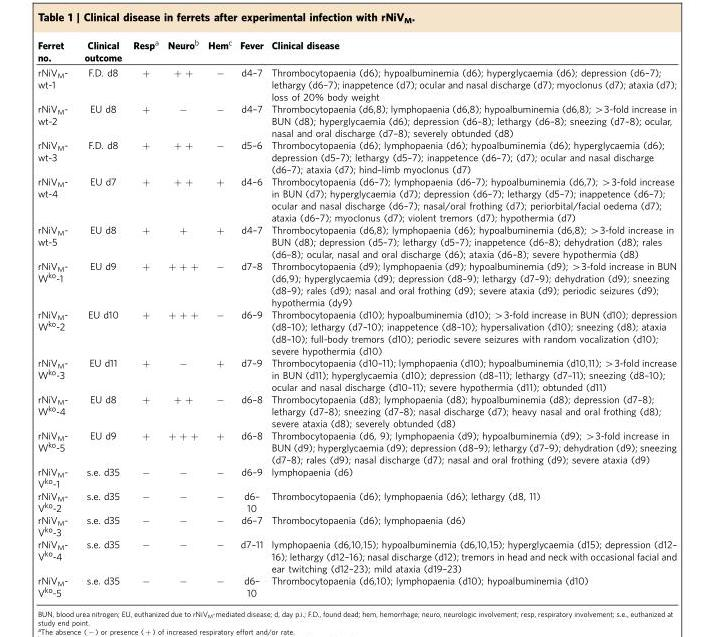table: (36, 37, 675, 597)
table column: (266, 37, 675, 597), (75, 37, 126, 597), (162, 37, 202, 597), (36, 37, 75, 597), (126, 37, 162, 597), (202, 37, 235, 597), (235, 37, 266, 597)
table column header: (36, 37, 675, 64)
table row: (36, 259, 675, 308), (36, 175, 675, 223), (36, 308, 675, 356), (36, 64, 675, 102), (36, 138, 675, 175), (36, 392, 675, 429), (36, 102, 675, 138), (36, 223, 675, 259), (36, 356, 675, 392), (36, 429, 675, 465), (36, 538, 675, 574), (36, 37, 675, 64), (36, 513, 675, 538), (36, 465, 675, 489), (36, 489, 675, 513), (36, 574, 675, 597)
